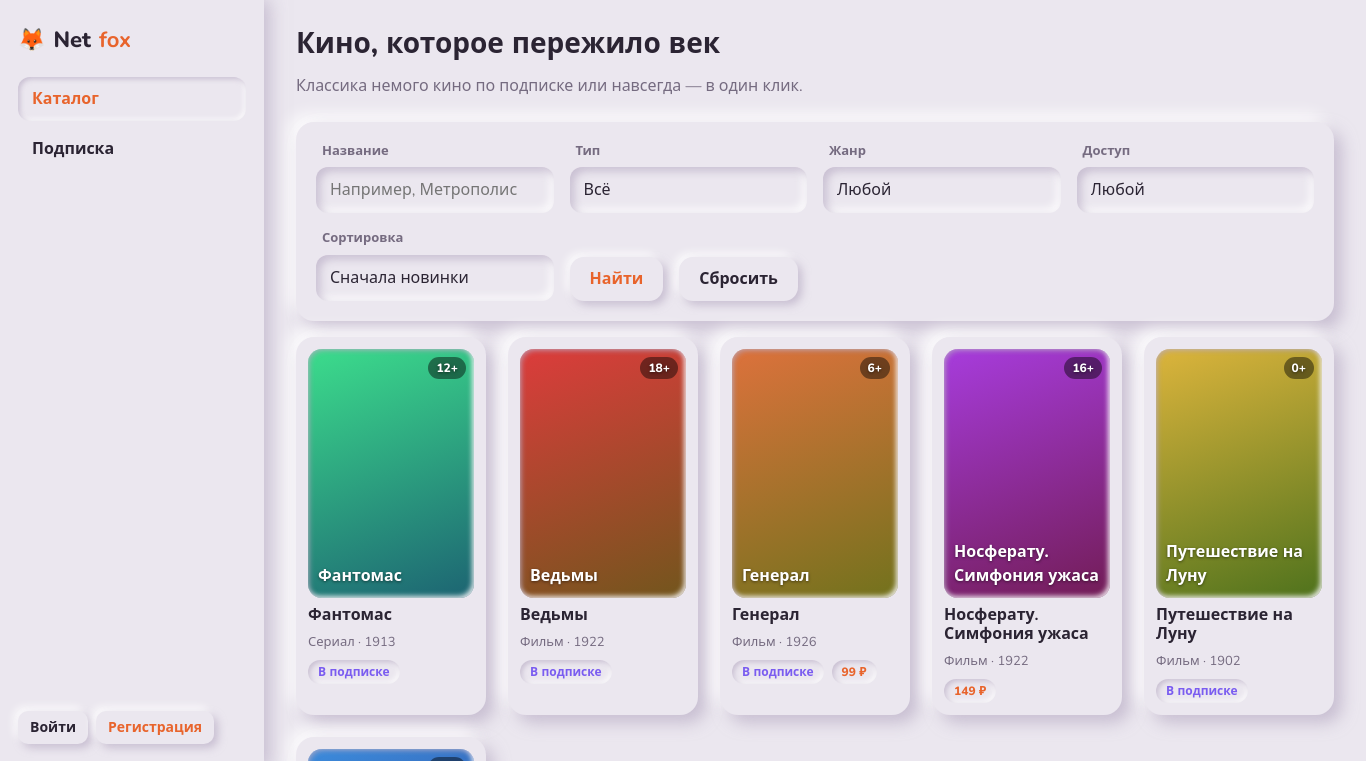
зритель: от витрины до просмотра › гость видит каталог, фильтрует по жанру и открывает фильм
Select "ужасы" in the dropdown labelled "Жанр" at (942, 190), box [823,167,1060,213]
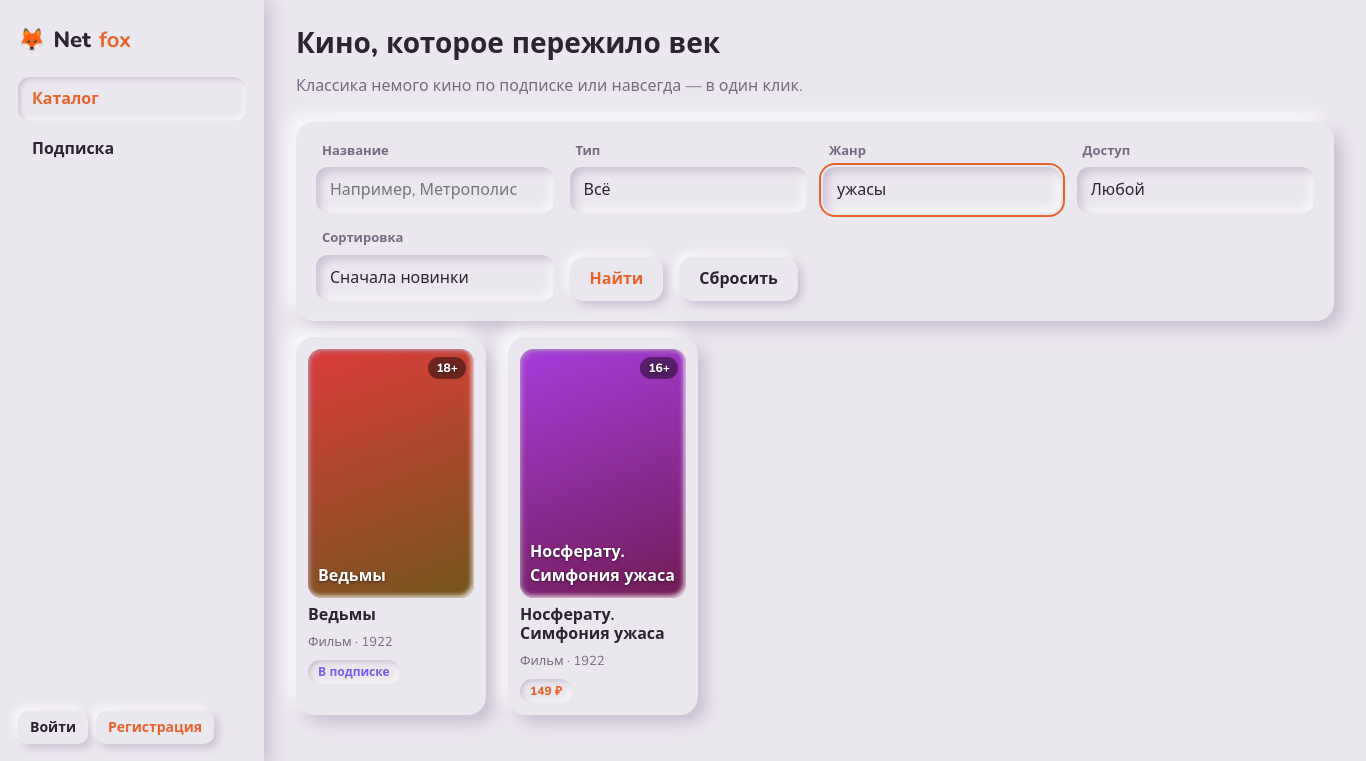
Click the link "16+ Носферату. Симфония ужаса Носферату. Симфония ужаса" at (603, 496), box [520,349,686,644]
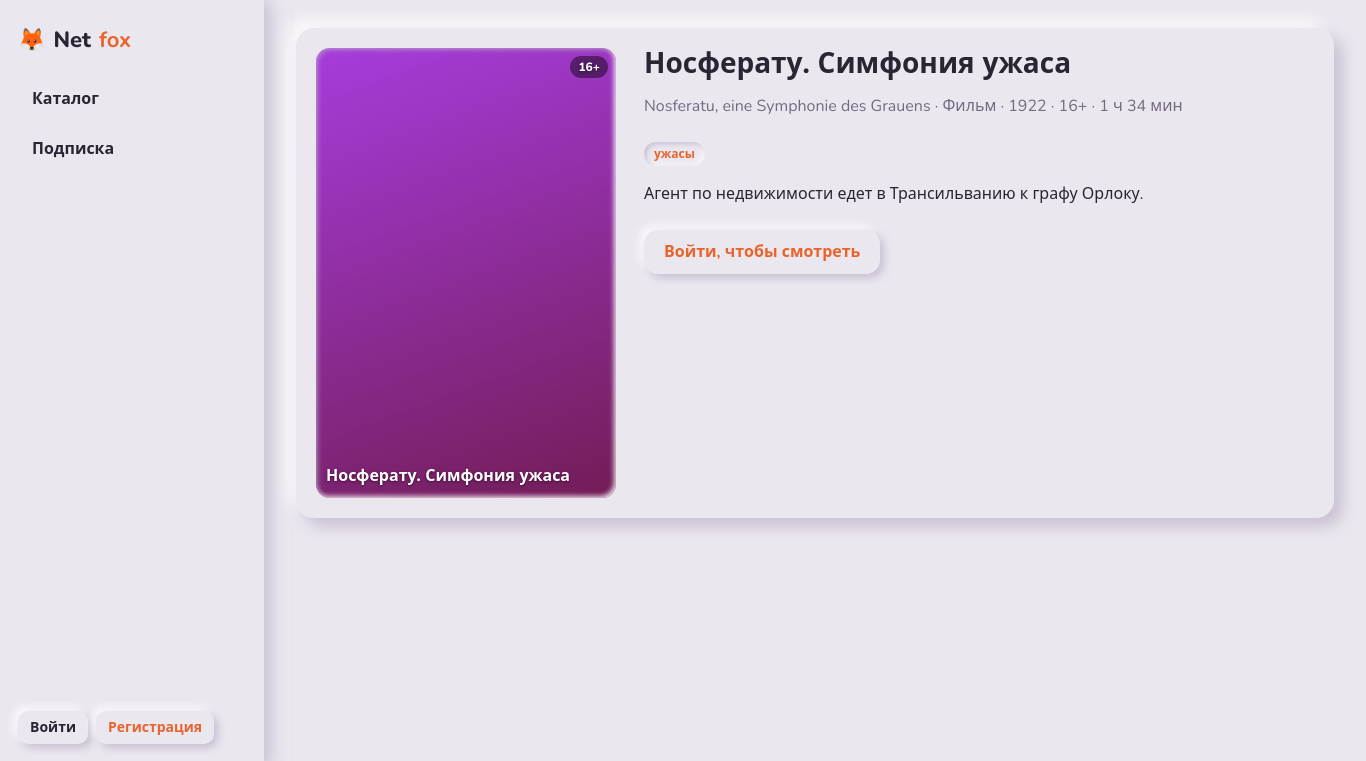
Expected: the heading "Носферату. Симфония ужаса" is shown, [644,45,1071,83]
Expected: the link "Войти, чтобы смотреть" is shown, [644,230,880,274]
